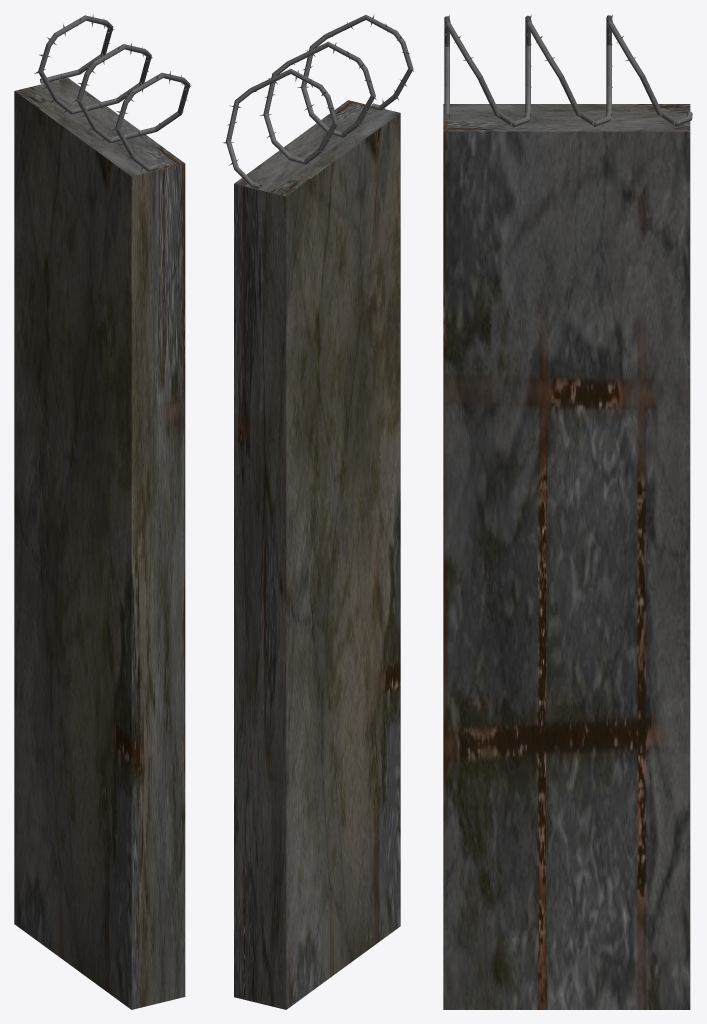
The model's file is Muro.fbx.
3 views of the same model, side by side, from view 1: azimuth 30°, elevation 25°; view 2: azimuth 150°, elevation 25°; view 3: azimuth 270°, elevation 25° (orthographic). The views are drawn at different scales.
Visible parts, largest first — view 1: Cube, Cube.001; view 2: Cube, Cube.001; view 3: Cube, Cube.001.
Boxes of the visible parts, bbox=[...] form: Cube: bbox=[14, 78, 185, 1009]; Cube.001: bbox=[38, 15, 190, 171]; Cube: bbox=[234, 100, 400, 1009]; Cube.001: bbox=[226, 15, 413, 189]; Cube: bbox=[443, 104, 690, 1009]; Cube.001: bbox=[444, 15, 692, 127].
Bounding box in the file's own units: 125 × 1144 × 264.
Materials: 2 (2 with a texture image).
